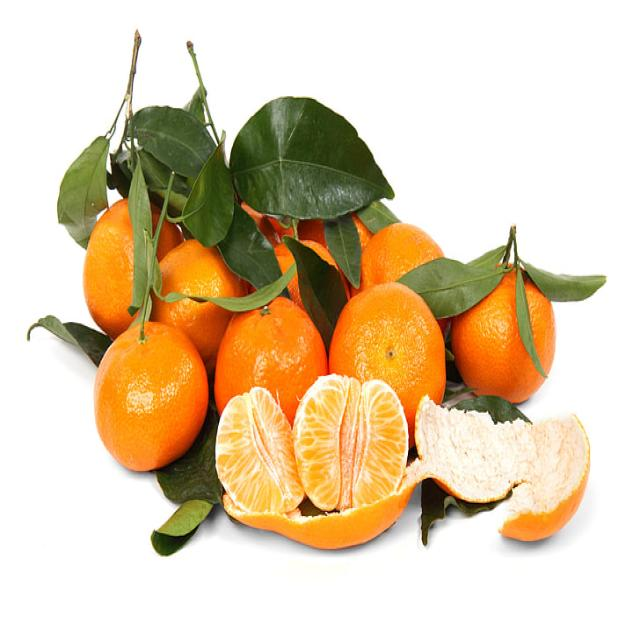orange: (298, 372, 413, 512), (96, 322, 197, 471), (455, 263, 558, 404), (330, 282, 447, 398), (215, 389, 298, 522), (216, 299, 322, 394)
